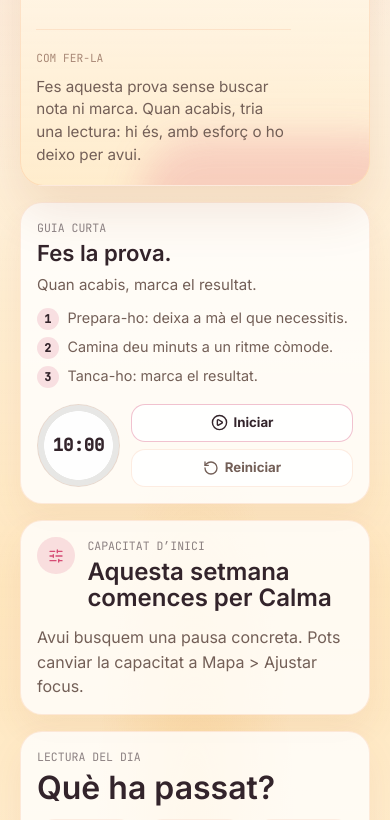
Test: Today v2 › starts and pauses the action timer
(page scrolled)
Click the button "Iniciar": (242, 423) [131, 404, 353, 442]
Wait 1000 ms
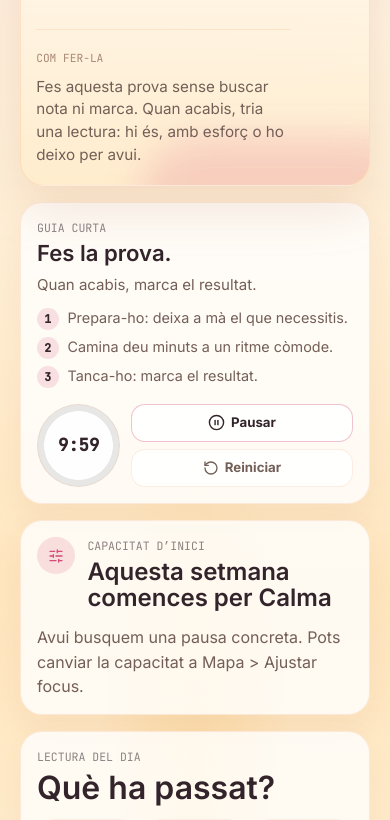
Expected: the button "Pausar" is shown, [131, 404, 353, 442]
Expected: the text "9:59" is shown, [58, 432, 99, 458]
